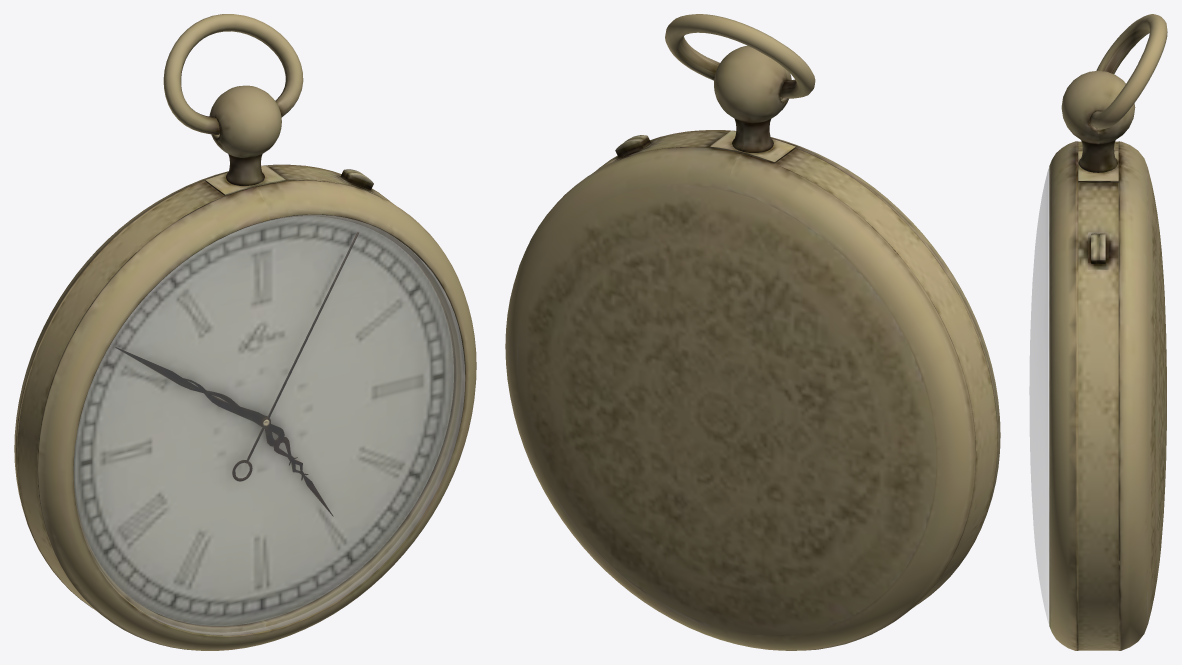
Rendered from pocket_watch.glb.
3 renders of one model, left to right at view 1: azimuth 30°, elevation 25°; view 2: azimuth 150°, elevation 25°; view 3: azimuth 270°, elevation 25°, orthographic. The views are drawn at different scales.
Parts seen in each view (by area): view 1: pocket_watch_button, pocket_watch_frame; view 2: pocket_watch_button; view 3: pocket_watch_button, pocket_watch_frame.
Part boxes in pixels (x1,y1,x2,y2): pocket_watch_button: (14, 14, 476, 650); pocket_watch_frame: (74, 215, 465, 635); pocket_watch_button: (505, 14, 1000, 650); pocket_watch_button: (1049, 14, 1167, 650); pocket_watch_frame: (1029, 168, 1049, 623).
Bounding box in the file's own units: 0.0577 × 0.0756 × 0.0156.
Materials: 2 (1 with a texture image).
